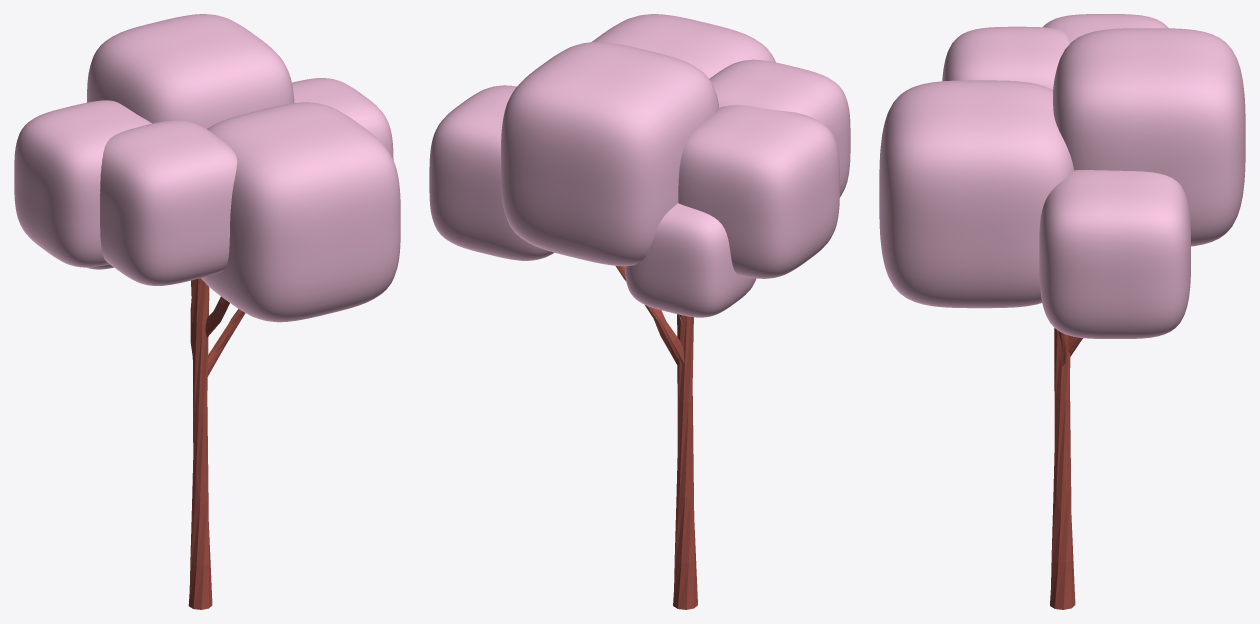
The model's file is Square Tree 1.fbx.
3 renders of one model, left to right at view 1: azimuth 30°, elevation 25°; view 2: azimuth 150°, elevation 25°; view 3: azimuth 270°, elevation 25°, orthographic. The views are drawn at different scales.
Visible parts, largest first — view 1: Cube, Cube_1_2, Cube_3, Cube_4, Cylinder_4, Cube_1, Cylinder_1_2; view 2: Cube_3, Cube_4, Cube_1, Cube_1_3, Cube_1_2, Cube, Cylinder_4, Cylinder_1; view 3: Cube, Cube_3, Cube_1, Cube_1_2, Cylinder_4, Cube_4.
Part boxes in pixels (<box>): Cube: <box>201,102,400,322</box>; Cube_1_2: <box>100,120,237,285</box>; Cube_3: <box>87,14,294,128</box>; Cube_4: <box>14,100,151,267</box>; Cylinder_4: <box>188,278,212,609</box>; Cube_1: <box>292,78,393,160</box>; Cylinder_1_2: <box>207,309,245,376</box>; Cube_3: <box>501,42,718,266</box>; Cube_4: <box>678,105,839,278</box>; Cube_1: <box>429,85,554,260</box>; Cube_1_3: <box>624,203,756,317</box>; Cube_1_2: <box>709,59,850,196</box>; Cube: <box>591,14,775,78</box>; Cylinder_4: <box>673,314,697,609</box>; Cylinder_1: <box>615,266,684,365</box>; Cube: <box>879,80,1073,308</box>; Cube_3: <box>1053,28,1245,246</box>; Cube_1: <box>1039,170,1190,338</box>; Cube_1_2: <box>942,26,1069,89</box>; Cylinder_4: <box>1050,328,1075,609</box>; Cube_4: <box>1043,14,1168,43</box>.
Size of the model in its own units: 167 by 247 by 144.
